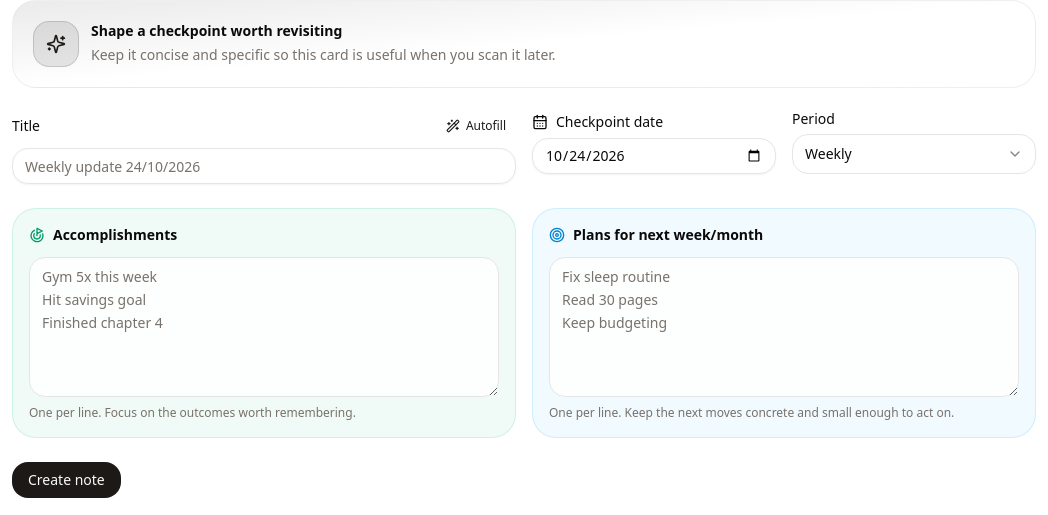
it: title autofill › suggests a dated title as placeholder and fills it on Autofill
Step 1. Type "2026-10-05" into the date field labelled "Checkpoint date" → (654, 156), box [532,138,776,174]
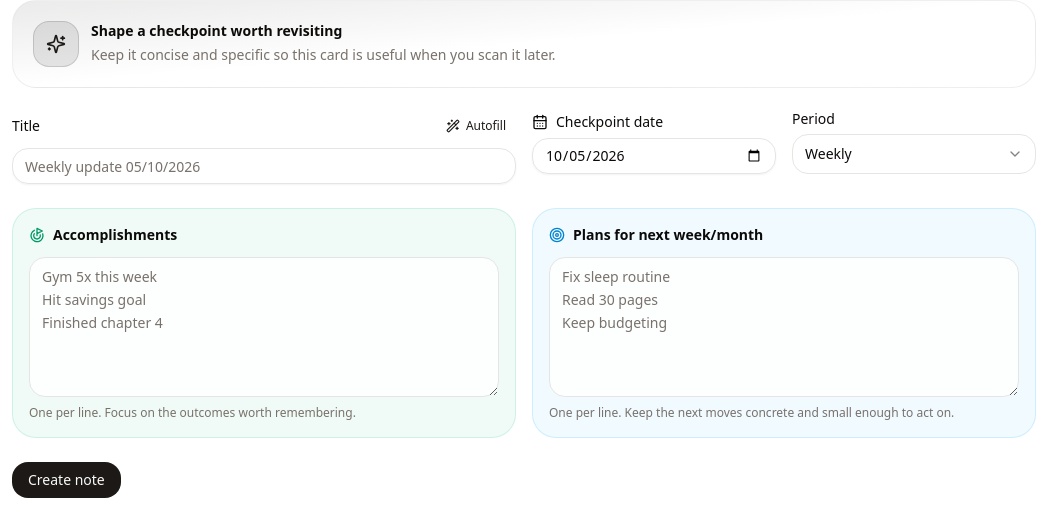
expect the field labelled "Title" has attribute placeholder="Weekly update 05/10/2026": met, box [12,148,516,184]
Step 2. Click the button "Autofill" → (476, 126), box [436,112,516,140]
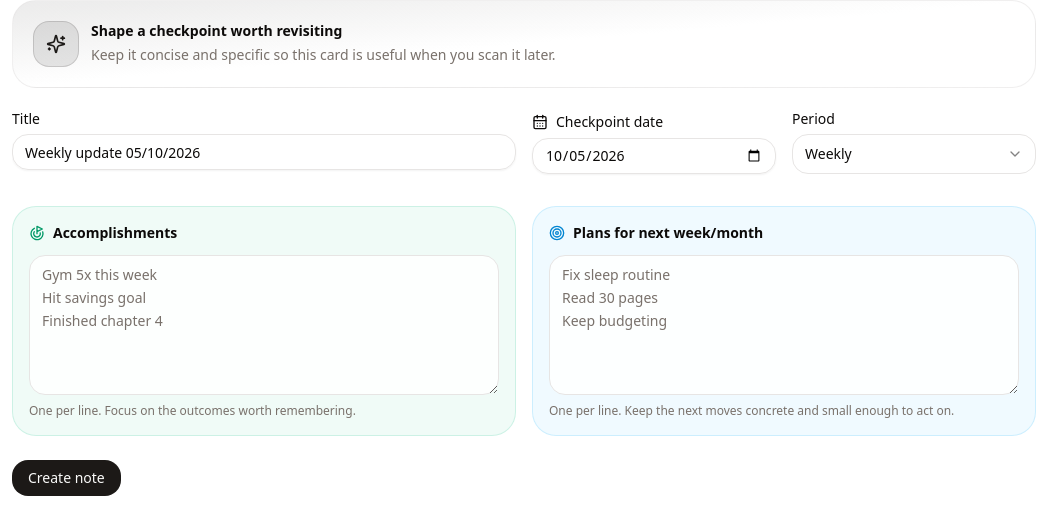
expect the field labelled "Title" holds "Weekly update 05/10/2026": met, box [12,134,516,170]
expect the button "Autofill" is gone: met
